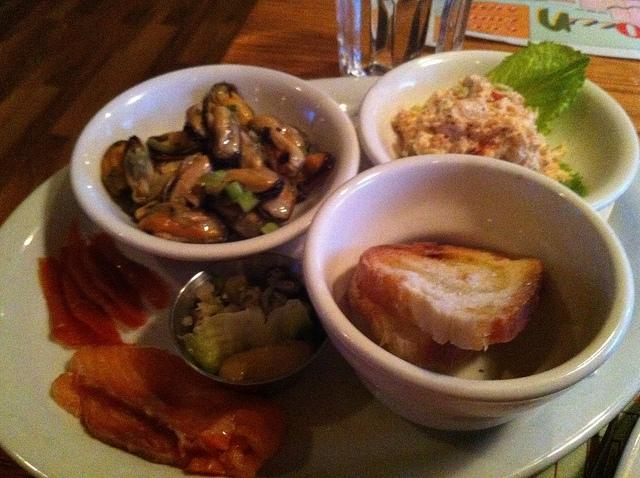lettuce: (482, 40, 590, 138), (560, 161, 588, 198)
mushroom: (132, 200, 229, 244), (124, 136, 183, 204), (101, 141, 140, 216), (170, 152, 211, 209), (212, 197, 266, 239), (253, 173, 297, 222), (262, 127, 304, 177), (211, 105, 240, 161), (147, 130, 205, 156), (226, 168, 283, 192), (239, 125, 269, 168), (202, 96, 222, 136), (296, 127, 316, 154)
